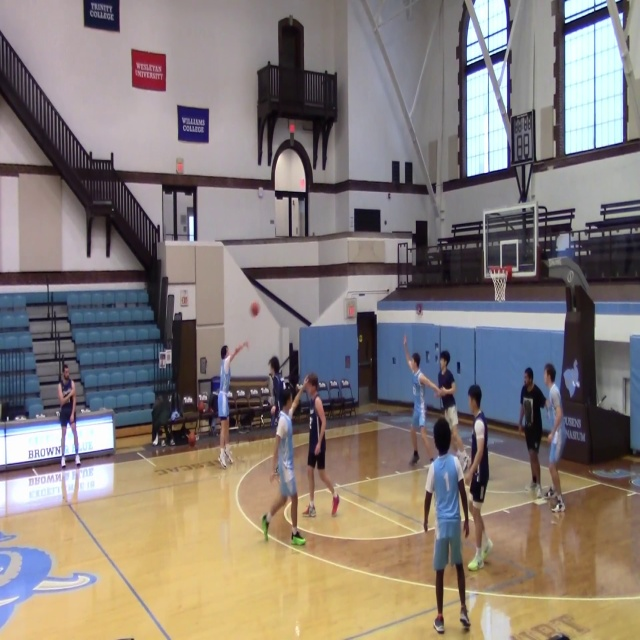Basketball: (250, 301, 260, 316), (187, 433, 197, 446), (197, 401, 205, 411)
